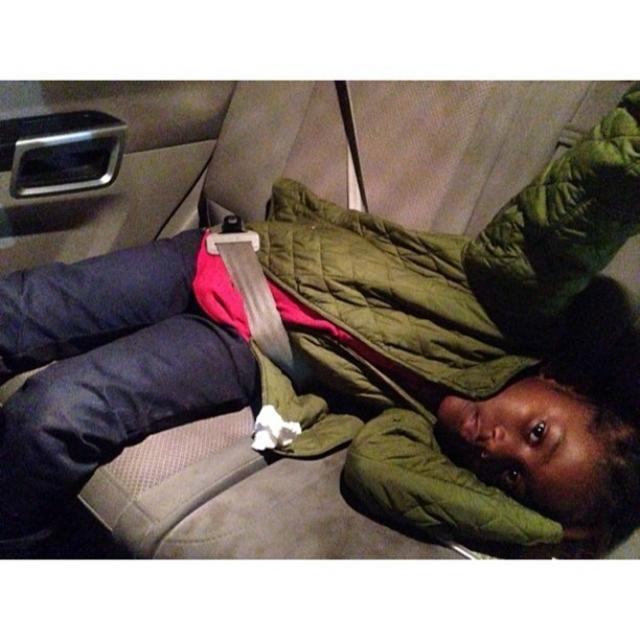Seatbelt: (208, 198, 296, 380)
